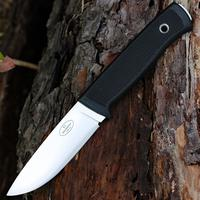knife: (5, 14, 181, 199)
